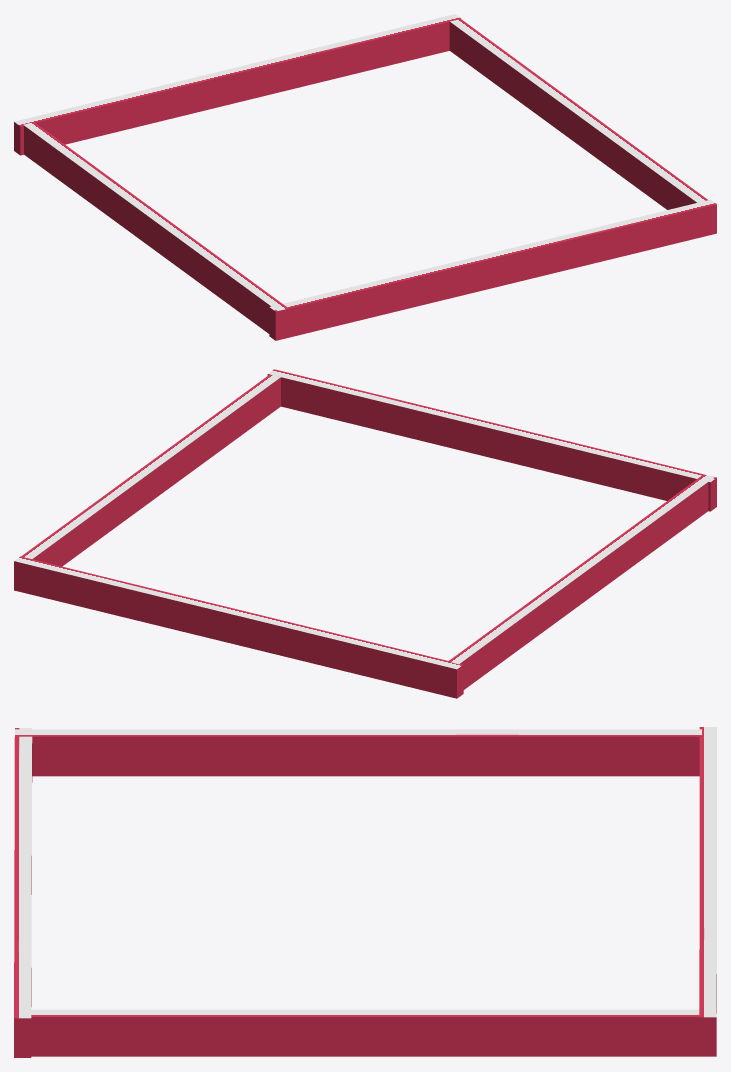
The model's file is 術式反転青.fbx.
The picture shows the model from 3 angles, top to bottom: view 1: azimuth 30°, elevation 25°; view 2: azimuth 150°, elevation 25°; view 3: azimuth 270°, elevation 25°; orthographic projection. The views are drawn at different scales.
Visible parts, largest first — view 1: Cube.006, Cube.007, Cube.004, Cube.005; view 2: Cube.007, Cube.006, Cube.004, Cube.005; view 3: Cube.004, Cube.005, Cube.007, Cube.006.
Boxes of the visible parts, x1=… form: Cube.006: x1=269, y1=199, x2=716, y2=340; Cube.007: x1=14, y1=14, x2=460, y2=155; Cube.004: x1=23, y1=122, x2=288, y2=333; Cube.005: x1=449, y1=19, x2=707, y2=209; Cube.007: x1=14, y1=556, x2=463, y2=698; Cube.006: x1=267, y1=369, x2=716, y2=511; Cube.004: x1=448, y1=474, x2=714, y2=689; Cube.005: x1=21, y1=374, x2=280, y2=566; Cube.004: x1=15, y1=729, x2=701, y2=776; Cube.005: x1=31, y1=1009, x2=699, y2=1056; Cube.007: x1=699, y1=727, x2=716, y2=1056; Cube.006: x1=14, y1=728, x2=32, y2=1057.
Size of the model in its own units: 1260 by 79.87 by 1284.
